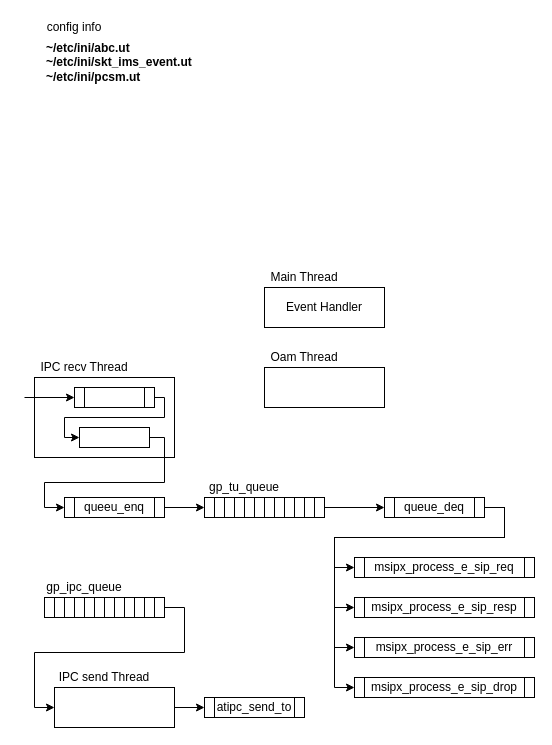
The diagram is 552 pixels wide and 745 high, and some of its shapes have lost their labels. Here are the shapes that lost their labels. From the top down, the centre of each, then its label:
the point at 114,397: atipc_recv
the point at 114,437: Type check
